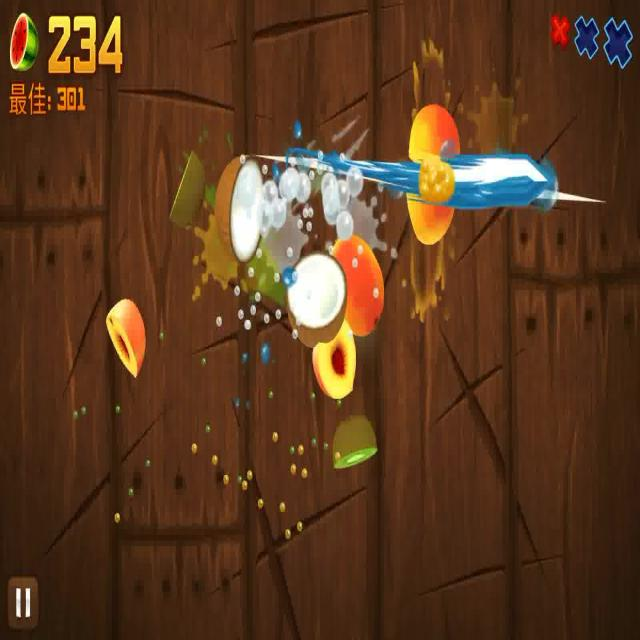fruit: (285, 252, 347, 342), (218, 150, 266, 262), (336, 231, 384, 335), (408, 103, 463, 167), (106, 295, 147, 376), (170, 147, 207, 235), (315, 326, 357, 395), (407, 191, 457, 248), (330, 414, 377, 464)
